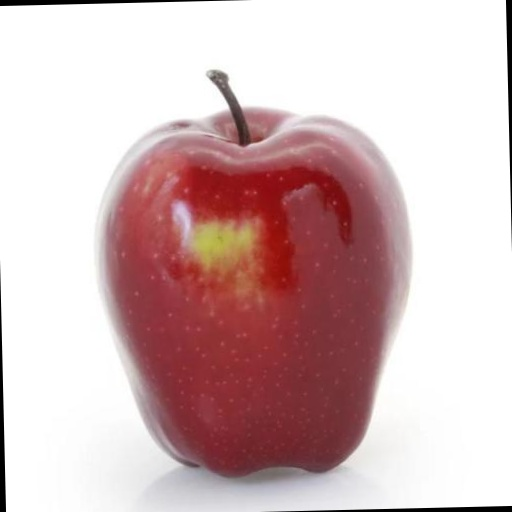fruit: (336, 124, 474, 486)
